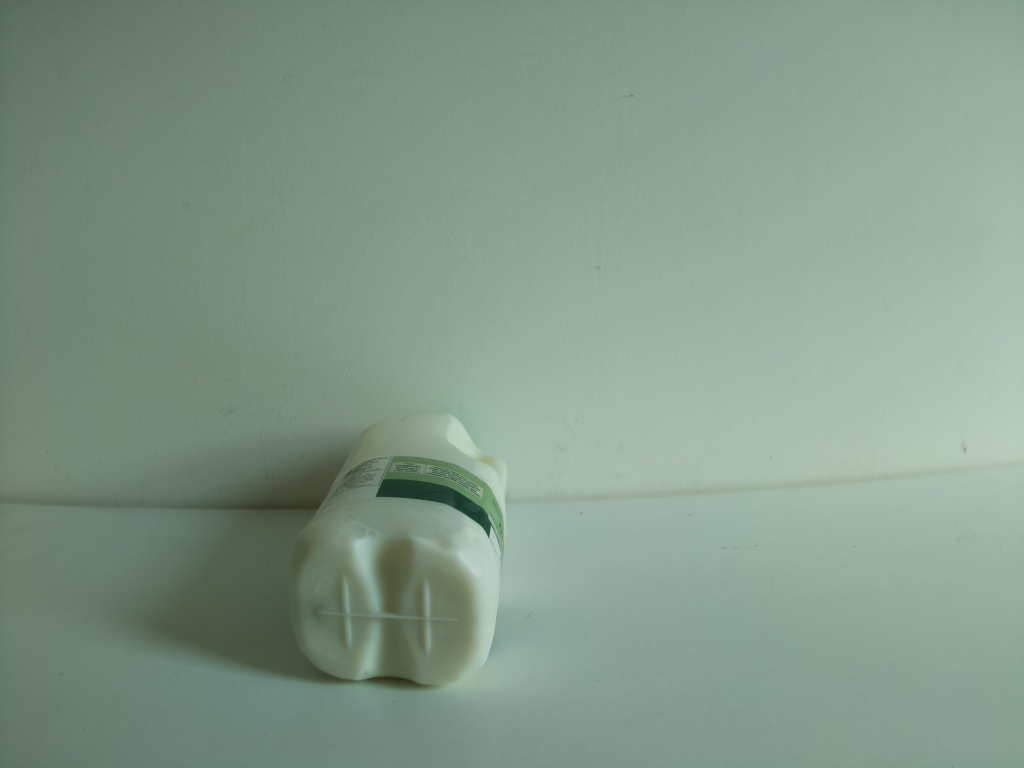milk: (282, 403, 522, 705)
